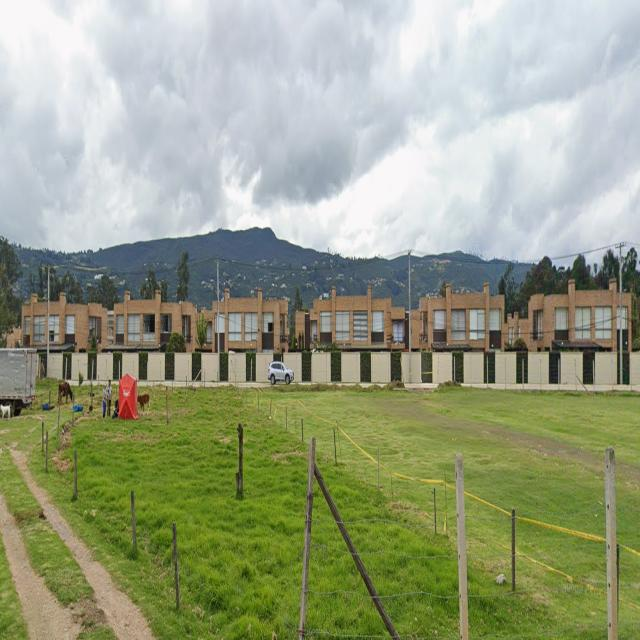Fachada: (517, 278, 632, 387), (304, 285, 408, 349), (419, 282, 506, 351), (207, 287, 288, 351), (113, 287, 195, 350), (21, 292, 107, 351)
Poste: (215, 261, 220, 382), (46, 267, 51, 376), (408, 249, 412, 382)
